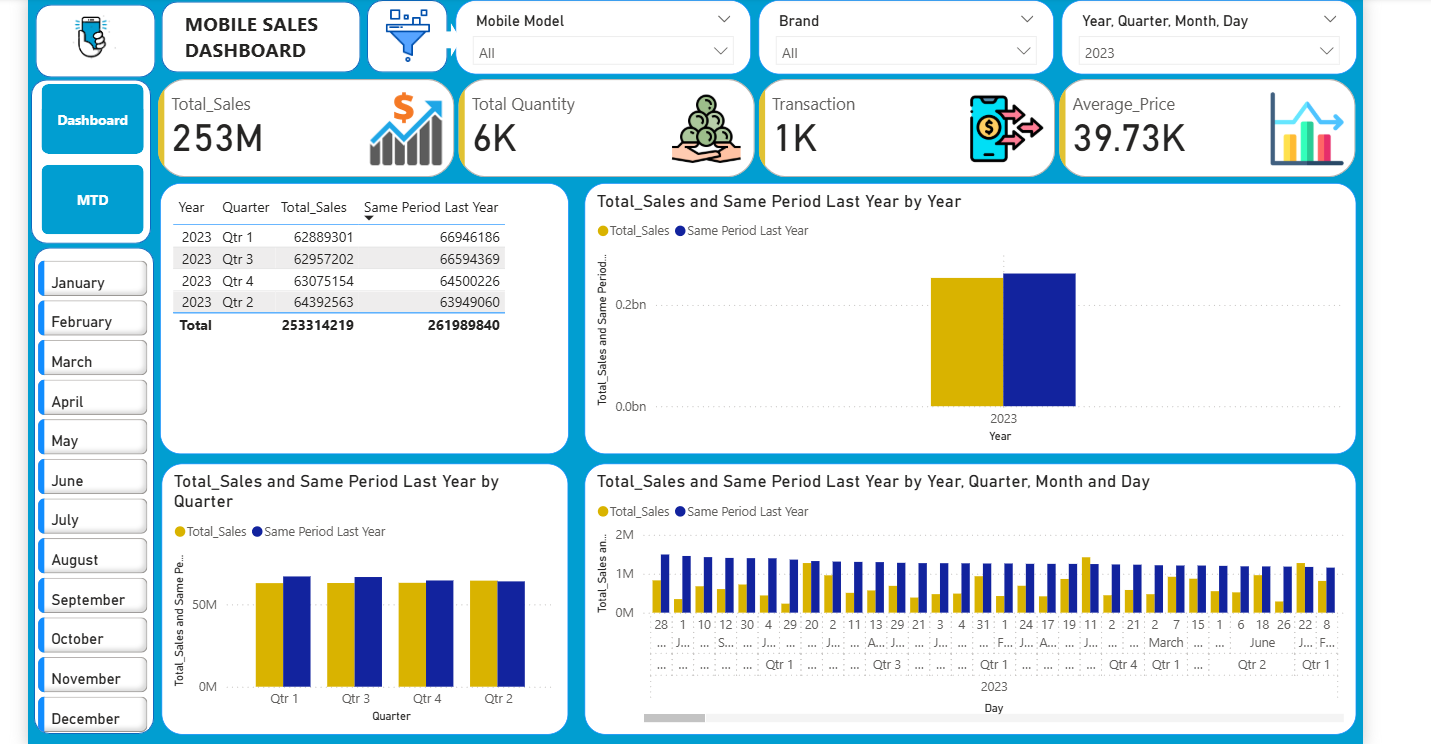

Layout of this report page (visuals, bound fields, positions):
{"tool":"powerbi","page":{"name":"Same Period Last Year","canvas":[1280,720],"ordinal":2},"visuals":[{"type":"shape","box":[6.7,6.7,115,70],"z":0},{"type":"image","box":[1.5,7.6,118.1,65.1],"z":1000},{"type":"shape","box":[3,78.7,115.1,157.5],"z":2000},{"type":"cardVisual","fields":{"Data":["Mobile_Sales_Data.Total_Sales","Mobile_Sales_Data.Total Quantity","Mobile_Sales_Data.Transaction","Mobile_Sales_Data.Average_Price"]},"box":[119.6,72.7,1159.9,104.5],"z":3000},{"type":"slicer","fields":{"Values":["Mobile_Sales_Data.Mobile Model"]},"box":[410.3,3,283.2,71.2],"z":4000},{"type":"slicer","fields":{"Values":["Mobile_Sales_Data.Brand"]},"box":[701.1,3,283.2,71.2],"z":5000},{"type":"slicer","fields":{"Values":["Custom_Calender.Date.Variation.Date Hierarchy.Year","Custom_Calender.Date.Variation.Date Hierarchy.Quarter","Custom_Calender.Date.Variation.Date Hierarchy.Month","Custom_Calender.Date.Variation.Date Hierarchy.Day"]},"box":[990.3,3,283.2,71.2],"z":6000},{"type":"shape","box":[325.6,3,77.2,69.7],"z":7000},{"type":"image","box":[324,6.1,81.8,62.1],"z":8000},{"type":"shape","box":[395.2,24.2,19.7,33.3],"z":9000},{"type":"shape","box":[128.7,4.5,190.8,68.1],"z":10000},{"type":"textbox","box":[145.4,7.6,157.5,60.6],"z":11000},{"type":"shape","box":[6.1,240.8,115.1,466.4],"z":12000},{"type":"advancedSlicerVisual","fields":{"Values":["Custom_Calender.Date.Variation.Date Hierarchy.Month"]},"box":[4.5,246.8,115.1,472.4],"z":13000},{"type":"tableEx","fields":{"Values":["Custom_Calender.Date.Variation.Date Hierarchy.Year","Custom_Calender.Date.Variation.Date Hierarchy.Quarter","Mobile_Sales_Data.Total_Sales","Mobile_Sales_Data.Same Period Last Year"]},"box":[126.7,178.3,391.7,260],"z":14000},{"type":"clusteredColumnChart","fields":{"Category":["Custom_Calender.Date.Variation.Date Hierarchy.Year","Custom_Calender.Date.Variation.Date Hierarchy.Quarter"],"Y":["Mobile_Sales_Data.Total_Sales","Mobile_Sales_Data.Same Period Last Year"]},"box":[533.3,178.3,740,260],"z":15000},{"type":"clusteredColumnChart","fields":{"Y":["Mobile_Sales_Data.Total_Sales","Mobile_Sales_Data.Same Period Last Year"],"Category":["Custom_Calender.Date.Variation.Date Hierarchy.Year","Custom_Calender.Date.Variation.Date Hierarchy.Quarter","Custom_Calender.Date.Variation.Date Hierarchy.Month","Custom_Calender.Date.Variation.Date Hierarchy.Day"]},"box":[533.3,446.7,740,260],"z":16000},{"type":"clusteredColumnChart","fields":{"Category":["Custom_Calender.Date.Variation.Date Hierarchy.Year","Custom_Calender.Date.Variation.Date Hierarchy.Quarter"],"Y":["Mobile_Sales_Data.Total_Sales","Mobile_Sales_Data.Same Period Last Year"]},"box":[128.3,446.7,390,260],"z":17000},{"type":"pageNavigator","box":[13.3,83.3,98.3,145],"z":18000}]}

Visuals, with their boxes on the page's 1280x720 design canvas (x1, y1, x2, y2). These are canvas units, not pixel positions in the 1431x744 screenshot, which may show the page scaled, cropped or inside an application window:
shape: pyautogui.locateOnScreen(7, 7, 122, 77)
image: pyautogui.locateOnScreen(2, 8, 120, 73)
shape: pyautogui.locateOnScreen(3, 79, 118, 236)
cardVisual - Mobile_Sales_Data.Total_Sales x Mobile_Sales_Data.Total Quantity: pyautogui.locateOnScreen(120, 73, 1280, 177)
slicer - Mobile_Sales_Data.Mobile Model: pyautogui.locateOnScreen(410, 3, 694, 74)
slicer - Mobile_Sales_Data.Brand: pyautogui.locateOnScreen(701, 3, 984, 74)
slicer - Custom_Calender.Date.Variation.Date Hierarchy.Year x Custom_Calender.Date.Variation.Date Hierarchy.Quarter: pyautogui.locateOnScreen(990, 3, 1274, 74)
shape: pyautogui.locateOnScreen(326, 3, 403, 73)
image: pyautogui.locateOnScreen(324, 6, 406, 68)
shape: pyautogui.locateOnScreen(395, 24, 415, 58)
shape: pyautogui.locateOnScreen(129, 4, 320, 73)
textbox: pyautogui.locateOnScreen(145, 8, 303, 68)
shape: pyautogui.locateOnScreen(6, 241, 121, 707)
advancedSlicerVisual - Custom_Calender.Date.Variation.Date Hierarchy.Month: pyautogui.locateOnScreen(4, 247, 120, 719)
tableEx - Custom_Calender.Date.Variation.Date Hierarchy.Year x Custom_Calender.Date.Variation.Date Hierarchy.Quarter: pyautogui.locateOnScreen(127, 178, 518, 438)
clusteredColumnChart - Custom_Calender.Date.Variation.Date Hierarchy.Year x Custom_Calender.Date.Variation.Date Hierarchy.Quarter: pyautogui.locateOnScreen(533, 178, 1273, 438)
clusteredColumnChart - Mobile_Sales_Data.Total_Sales x Mobile_Sales_Data.Same Period Last Year: pyautogui.locateOnScreen(533, 447, 1273, 707)
clusteredColumnChart - Custom_Calender.Date.Variation.Date Hierarchy.Year x Custom_Calender.Date.Variation.Date Hierarchy.Quarter: pyautogui.locateOnScreen(128, 447, 518, 707)
pageNavigator: pyautogui.locateOnScreen(13, 83, 112, 228)
